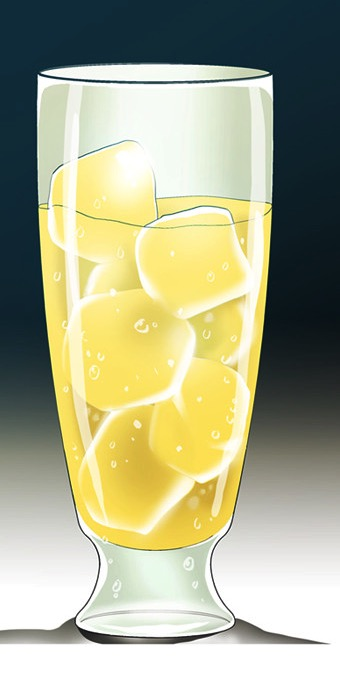cup: (21, 53, 282, 648)
